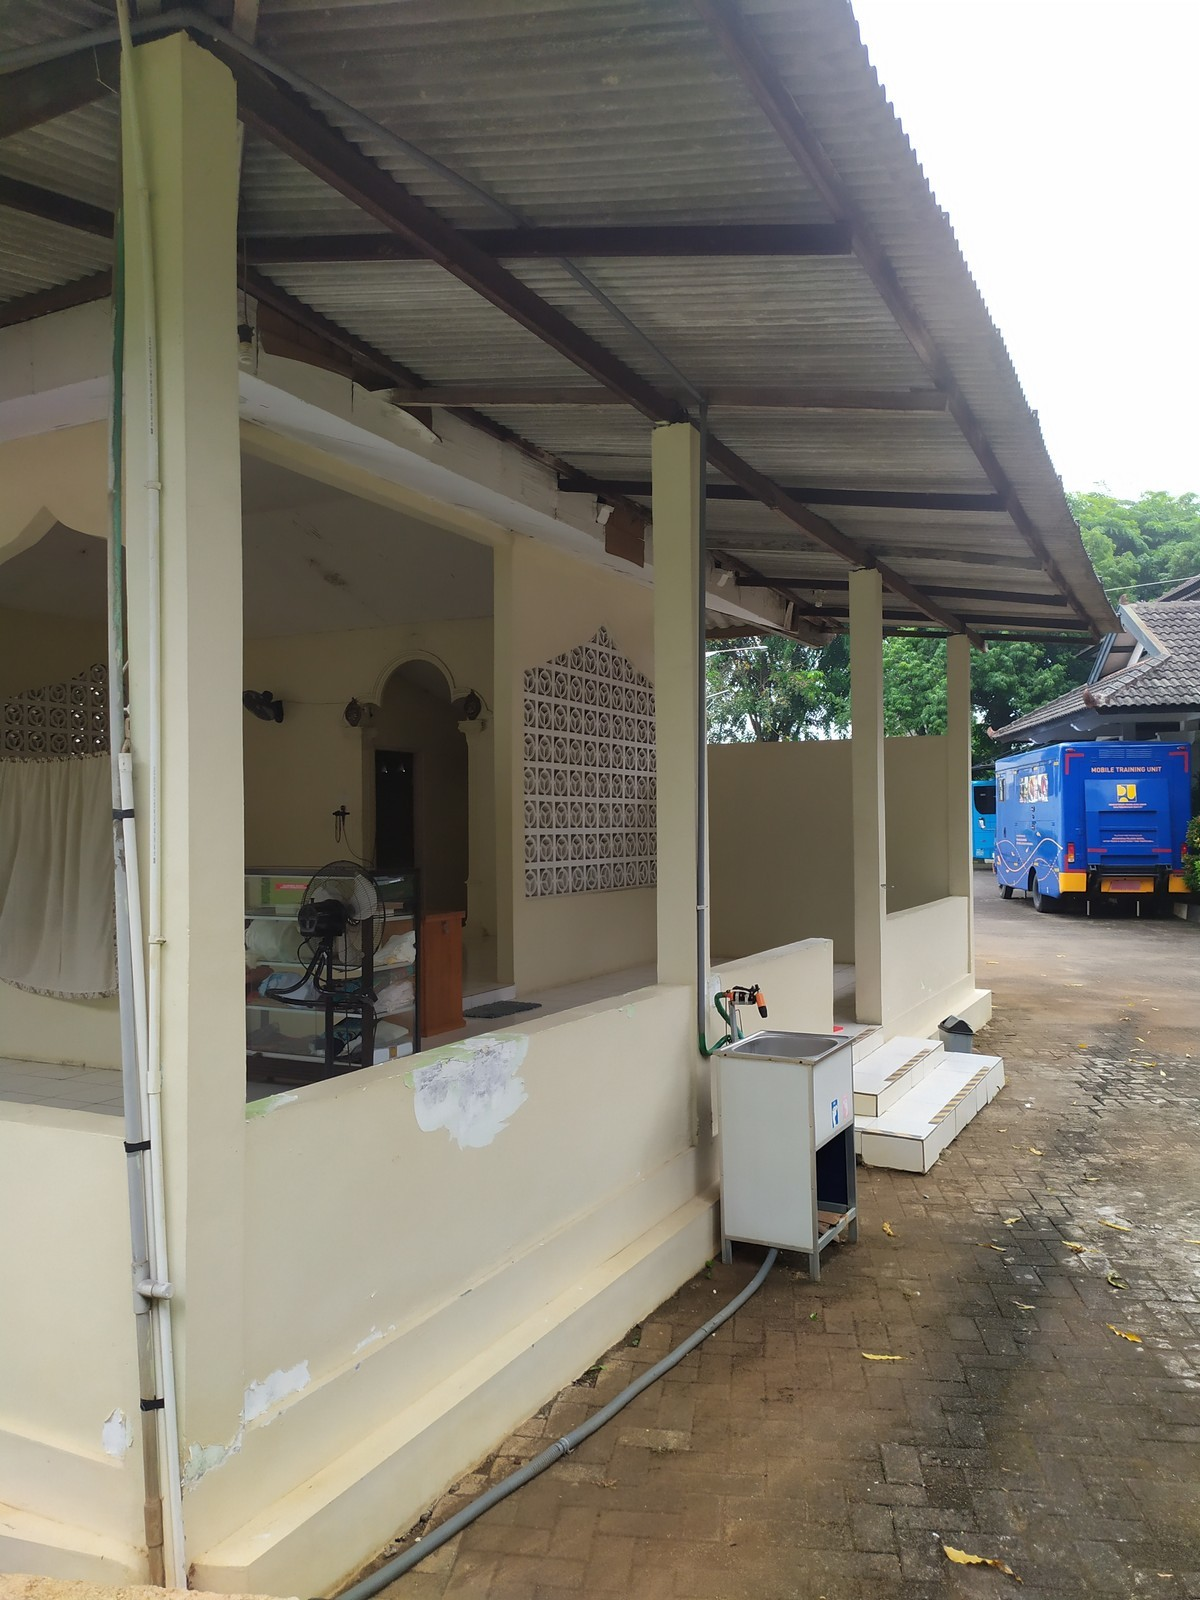concrete column: (106, 25, 258, 1488), (644, 414, 713, 1165), (842, 562, 896, 1026), (944, 629, 977, 900)
